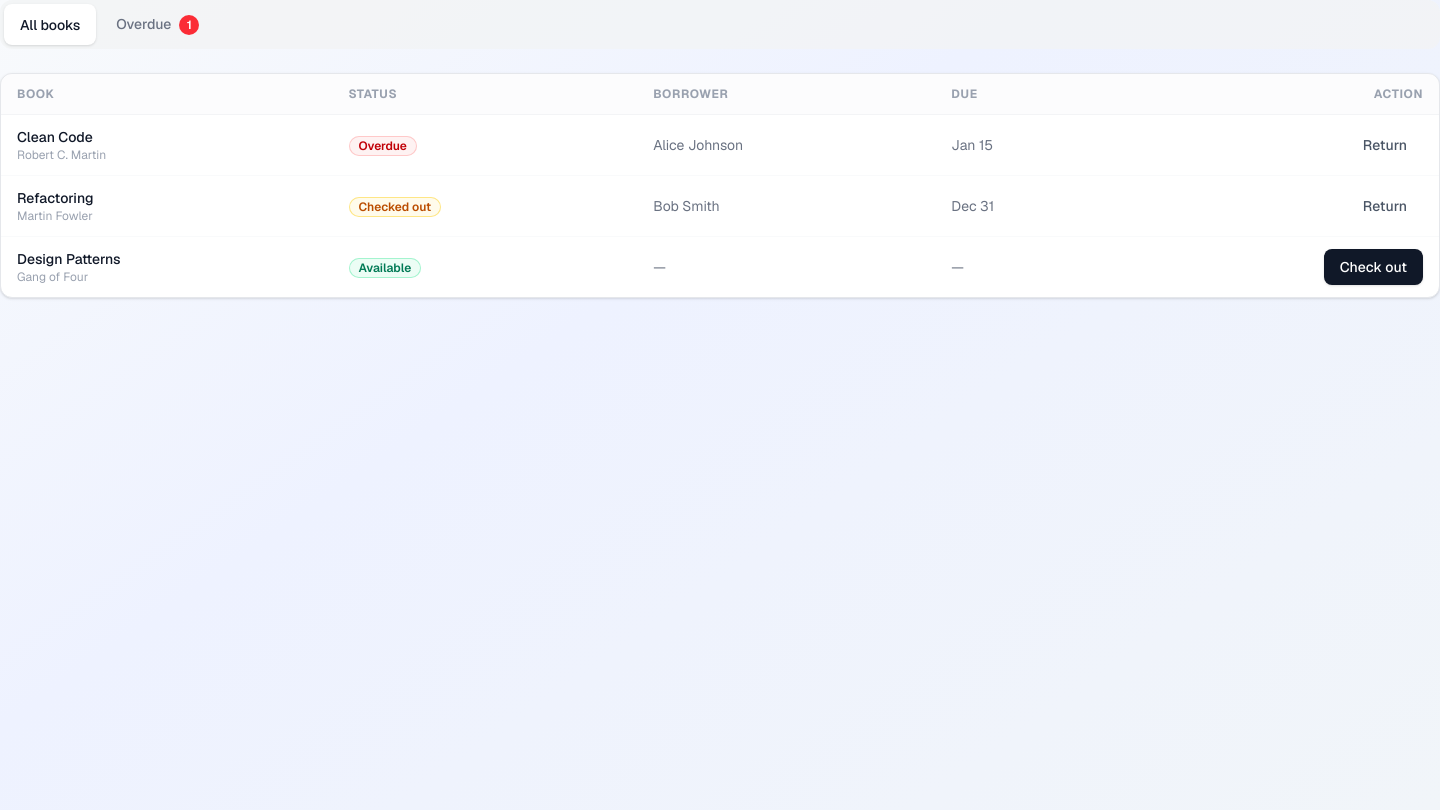
it: BookTable › filters to overdue books when Overdue tab is clicked
Step 1. Click the button "Overdue 1" → (158, 24), box x1=100 y1=4 x2=215 y2=45
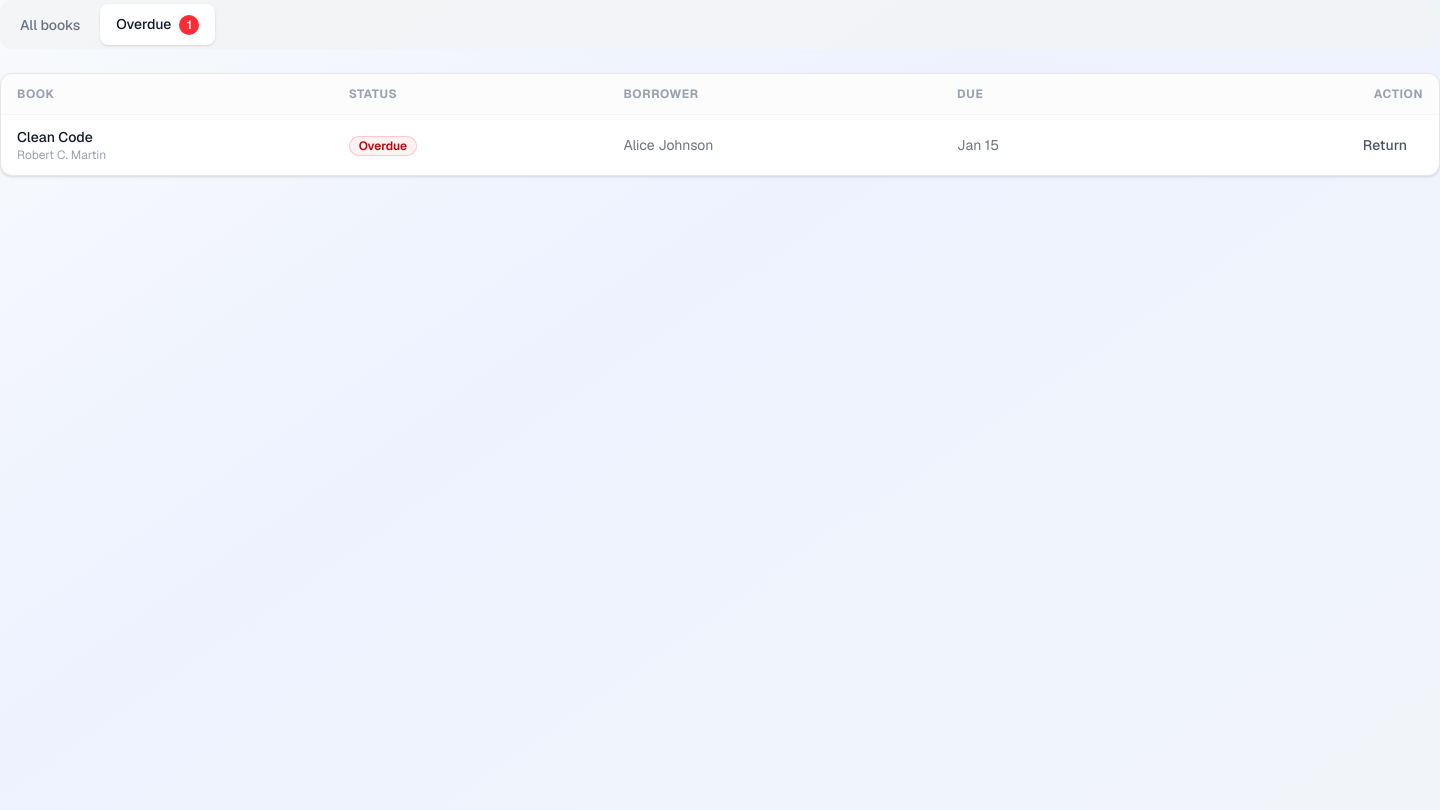
Now the text "Design Patterns" is gone
